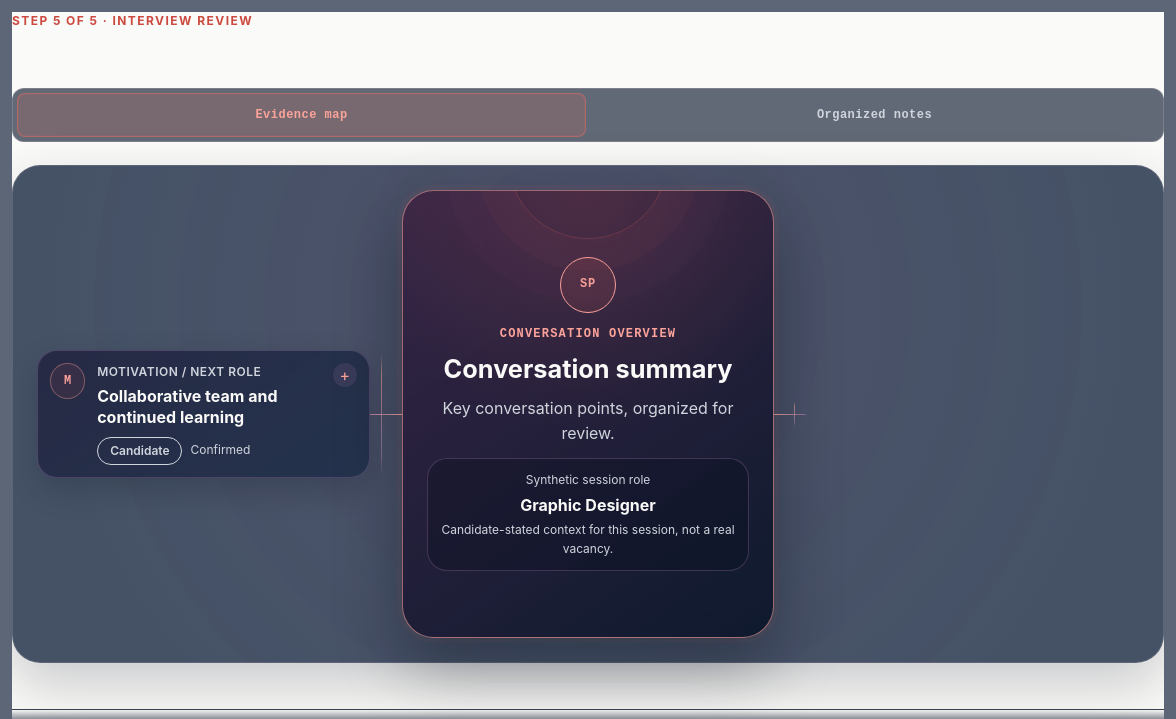
Test: InterviewEvidenceReview › switches between the evidence map and organized notes without stacking both views
Check: the text "Key conversation points, organized for review." is shown, box [427,396,749,446]
Click the button that starts with "Motivation / next role" at (203, 414), box [37,350,370,478]
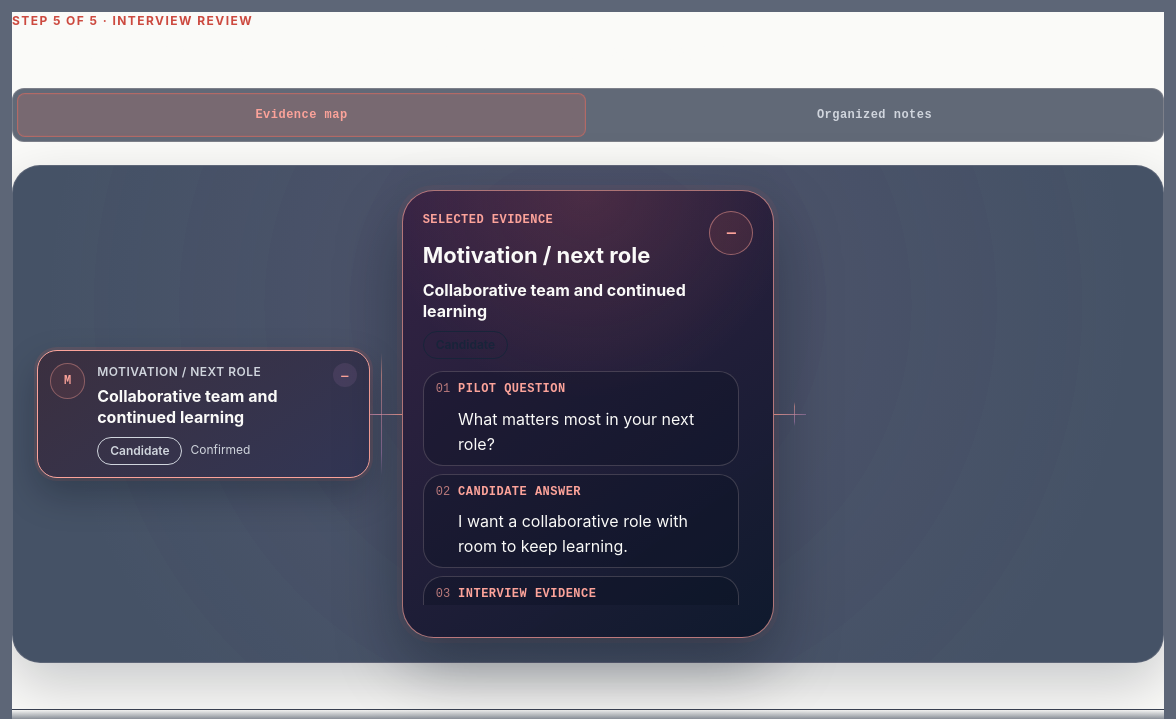
Check: the button that starts with "Motivation / next role" is expanded, box [37,350,370,478]
Click the tab "Organized notes" at (874, 115), box [590,93,1159,137]
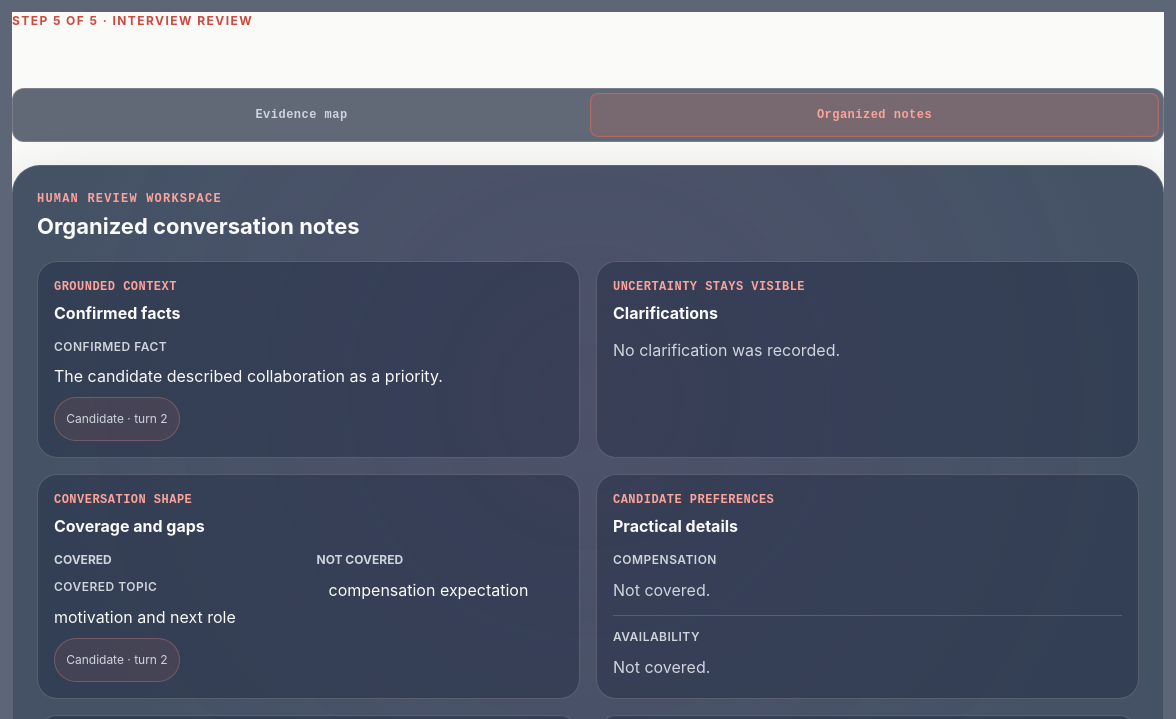
Check: the heading "Organized conversation notes" is shown, box [37,213,360,241]
Press ArrowLeft in the tab "Organized notes", box [590,93,1159,137]
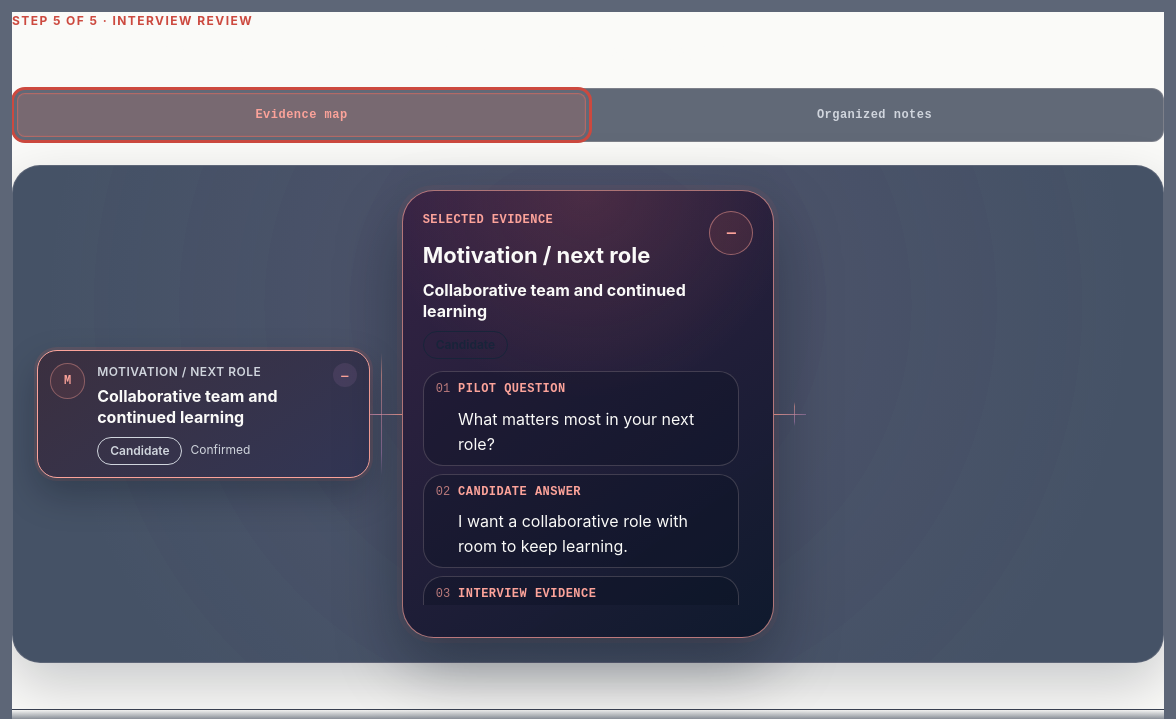
Check: the button that starts with "Motivation / next role" is expanded, box [37,350,370,478]
Check: the element named "Conversation evidence map" is shown
